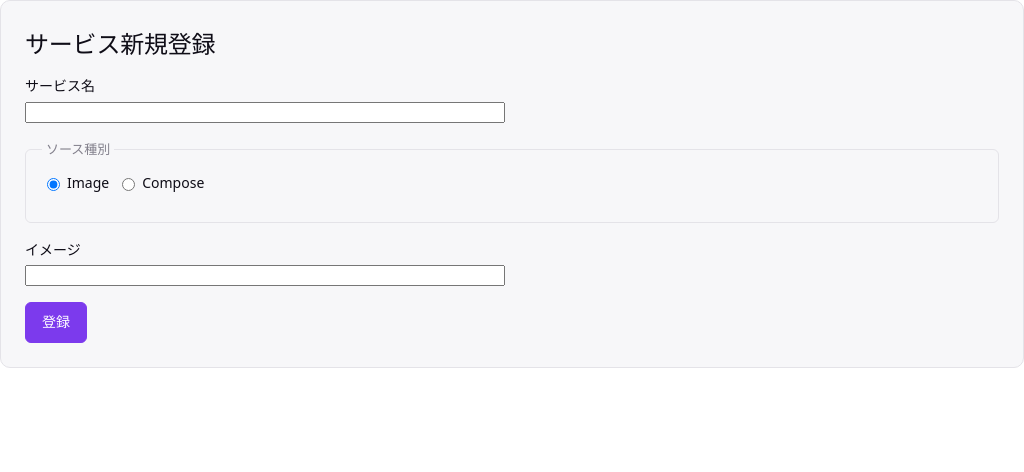
Test case: ServiceRegisterPage › バリデーションエラー(fields)をフィールドごとに表示する
The width and height of the screenshot is (1024, 472).
In the field labelled "サービス名": {"x": 265, "y": 112} [25, 102, 505, 123], type "BadName"
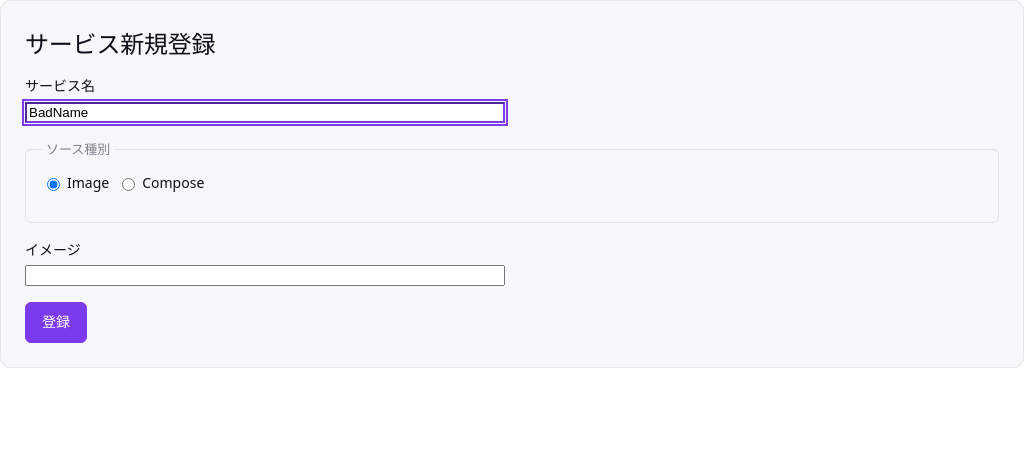
Click the button "登録": {"x": 56, "y": 323} [25, 302, 87, 343]
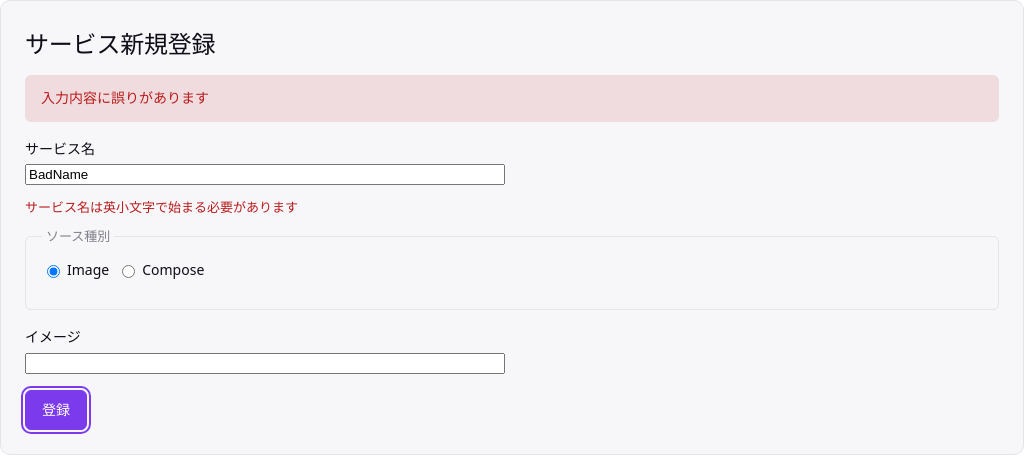
Check: the text "サービス名は英小文字で始まる必要があります" is shown, box [25, 198, 298, 216]
